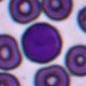L: (21, 22, 63, 64)
